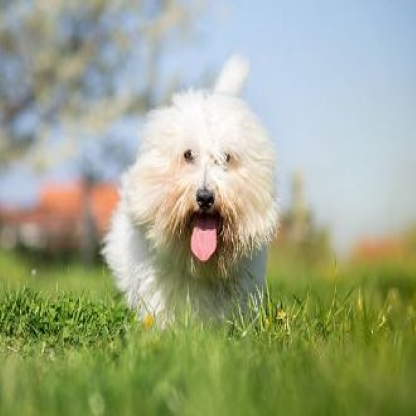maltese: (101, 52, 285, 319)
